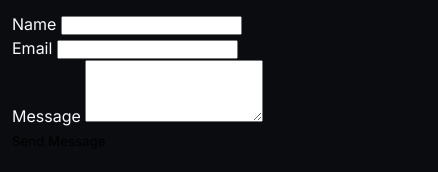
Test: ContactForm › Validation - Message › fails for empty message
Clear the text box with id "contact-message" at (174, 91), box [85, 60, 263, 122]
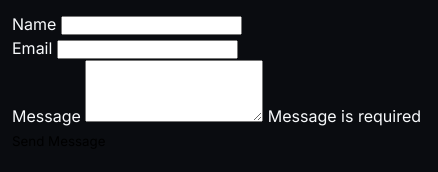
expect the message with id "message-error" reads "Message is required": met, box [268, 106, 421, 126]
